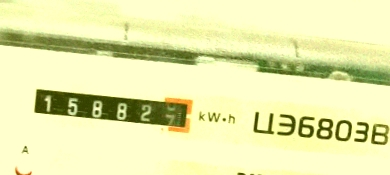1: (40, 92, 54, 112)
2: (138, 102, 152, 122)
5: (64, 95, 79, 116)
7: (163, 112, 175, 127)
8: (89, 97, 103, 119), (114, 100, 128, 122)
screen: (23, 74, 203, 141)
